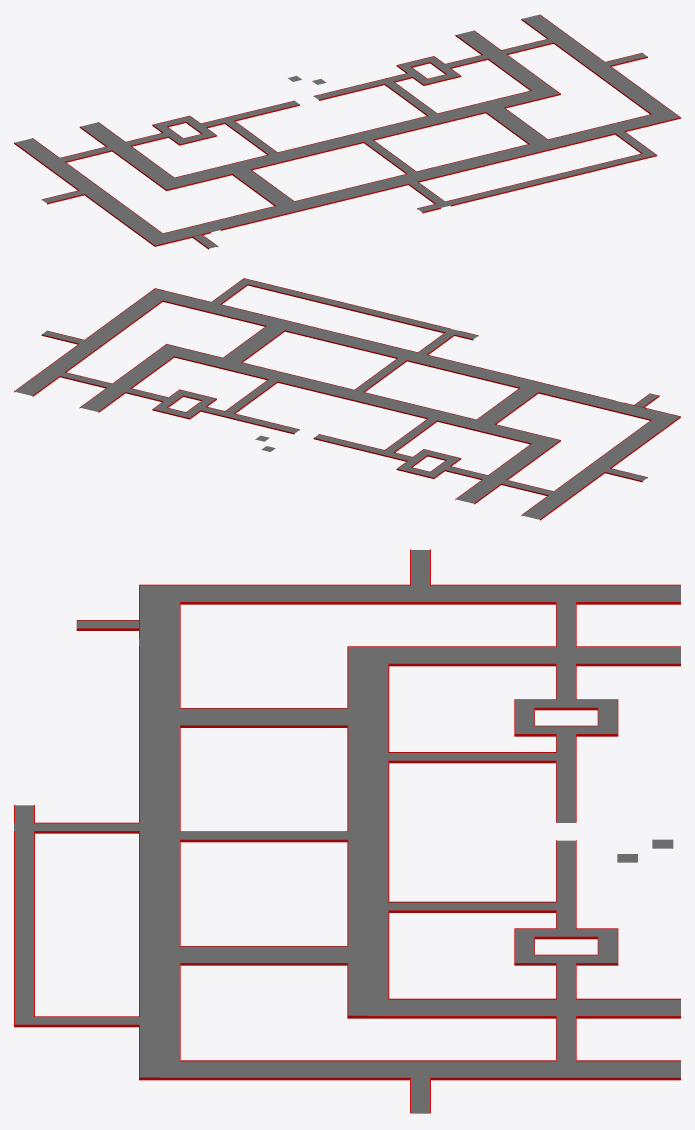
File: routetest 3.fbx
The picture shows the model from 3 angles, top to bottom: view 1: azimuth 30°, elevation 25°; view 2: azimuth 150°, elevation 25°; view 3: azimuth 270°, elevation 25°; orthographic projection. The views are drawn at different scales.
Parts seen in each view (by area): view 1: pCube549; view 2: pCube549; view 3: pCube549.
Boxes of the visible parts, left/top/right/bottom form: pCube549: left=14, top=14, right=680, bottom=249; pCube549: left=14, top=278, right=680, bottom=520; pCube549: left=14, top=549, right=680, bottom=1113.
Bounding box in the file's own units: 64 × 0.1323 × 32.
